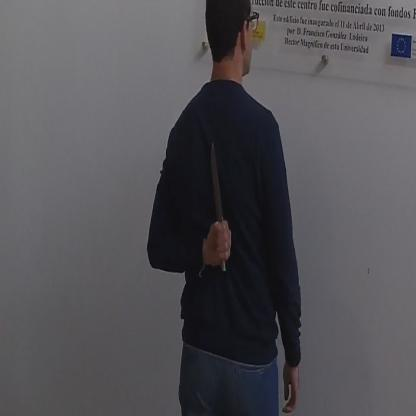knife: (206, 134, 233, 274)
